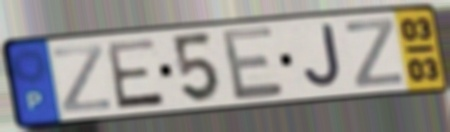5: (168, 29, 224, 106)
E: (218, 23, 287, 104), (103, 36, 168, 112)
J: (301, 21, 345, 92)
Z: (343, 16, 405, 90), (51, 42, 113, 116)
